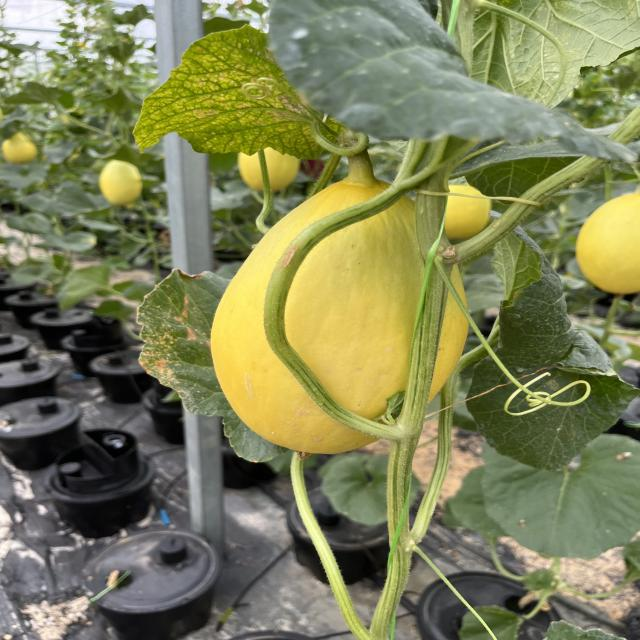bacterial wilt: (124, 267, 250, 421)
downy mildew: (120, 16, 366, 162)
